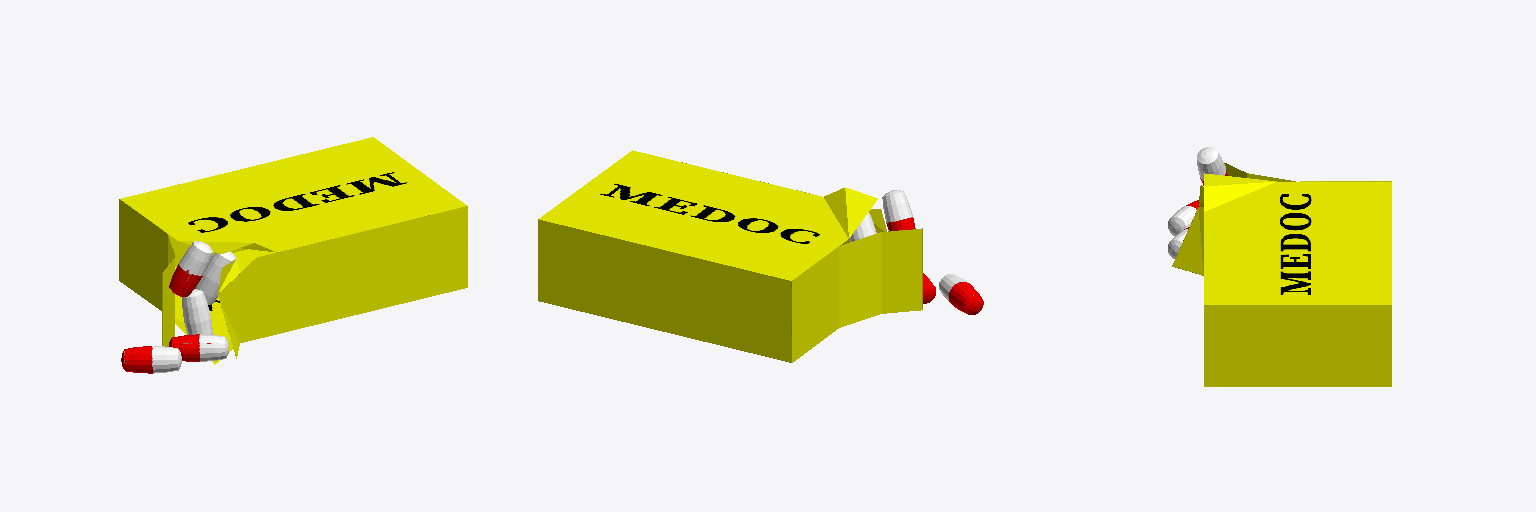
3 views of the same model, side by side, from view 1: azimuth 30°, elevation 25°; view 2: azimuth 150°, elevation 25°; view 3: azimuth 270°, elevation 25° (orthographic).
Parts seen in each view (by area): view 1: Cube_Cube.002; view 2: Cube_Cube.002; view 3: Cube_Cube.002.
Part boxes in pixels (bbox=[...]): Cube_Cube.002: bbox=[119, 137, 467, 373]; Cube_Cube.002: bbox=[538, 150, 983, 362]; Cube_Cube.002: bbox=[1168, 147, 1391, 386].
Bounding box in the file's own units: 2.75 × 0.9334 × 1.54.
Materials: 2 (1 with a texture image).